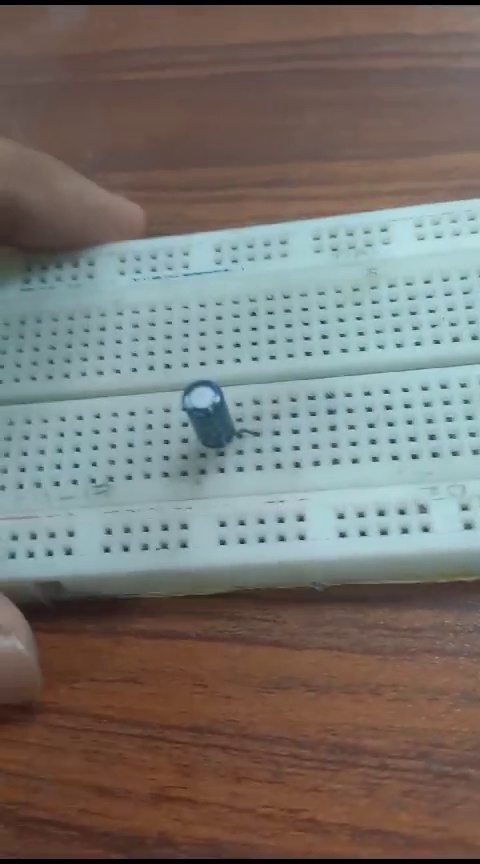capacitor: (172, 377, 242, 451)
